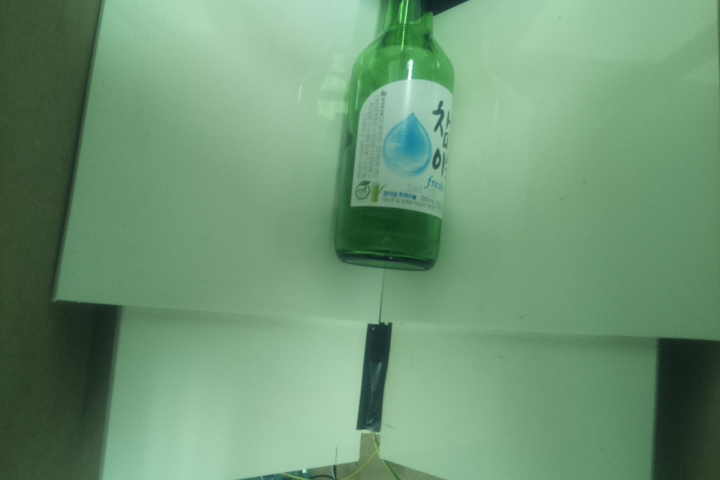soju: (333, 1, 457, 273)
